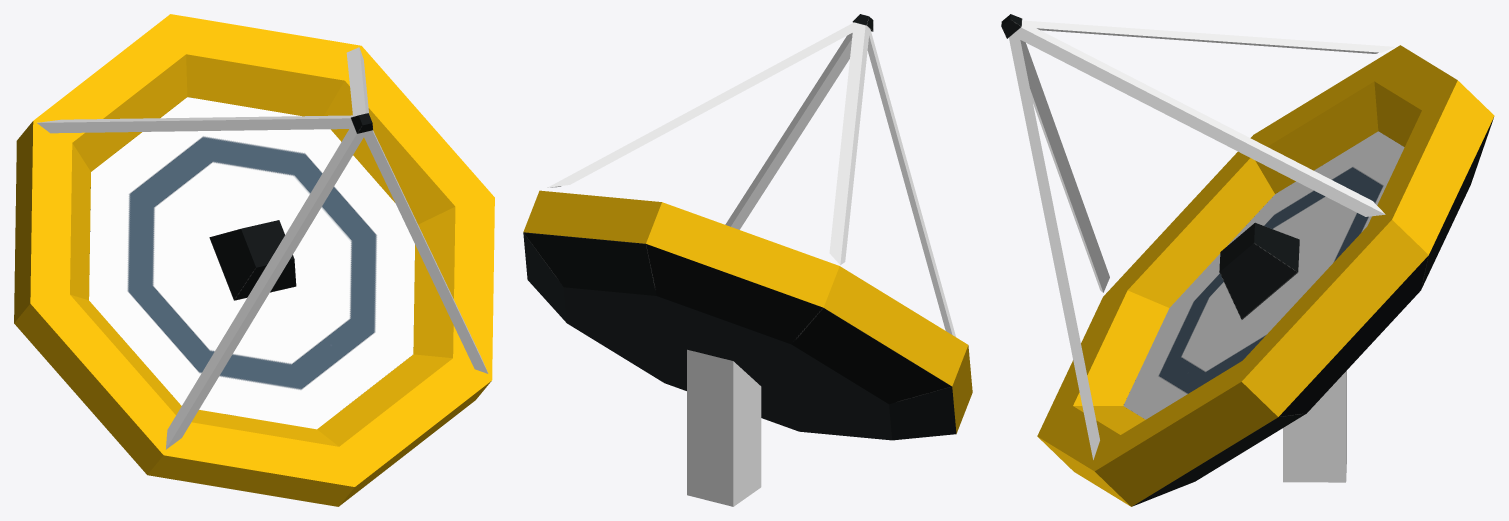
File: dish.glb
3 renders of one model, left to right at view 1: azimuth 30°, elevation 25°; view 2: azimuth 150°, elevation 25°; view 3: azimuth 270°, elevation 25°, orthographic. The views are drawn at different scales.
Visible parts, largest first — view 1: Cylinder; view 2: Cylinder; view 3: Cylinder.
Part boxes in pixels (<box>): Cylinder: <box>14,14,494,506</box>; Cylinder: <box>523,14,972,506</box>; Cylinder: <box>1001,14,1494,506</box>.
Size of the model in its own units: 1.25 by 1.08 by 1.06.
Materials: 2 (1 with a texture image).
